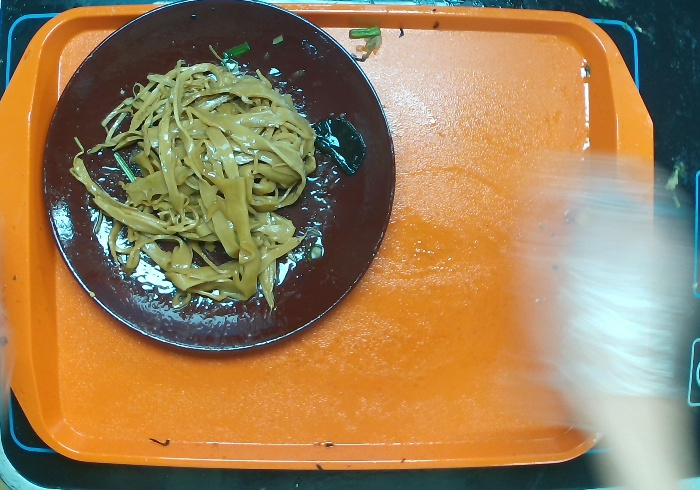HZYJPL-Ka_Fei_Yuan_Pan: (39, 1, 395, 353)
